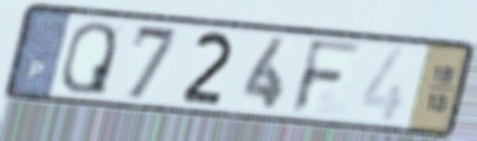2: (179, 30, 234, 108)
4: (357, 44, 408, 125), (239, 34, 288, 113)
7: (128, 22, 179, 102)
F: (287, 36, 367, 118)
Q: (58, 19, 120, 98)
